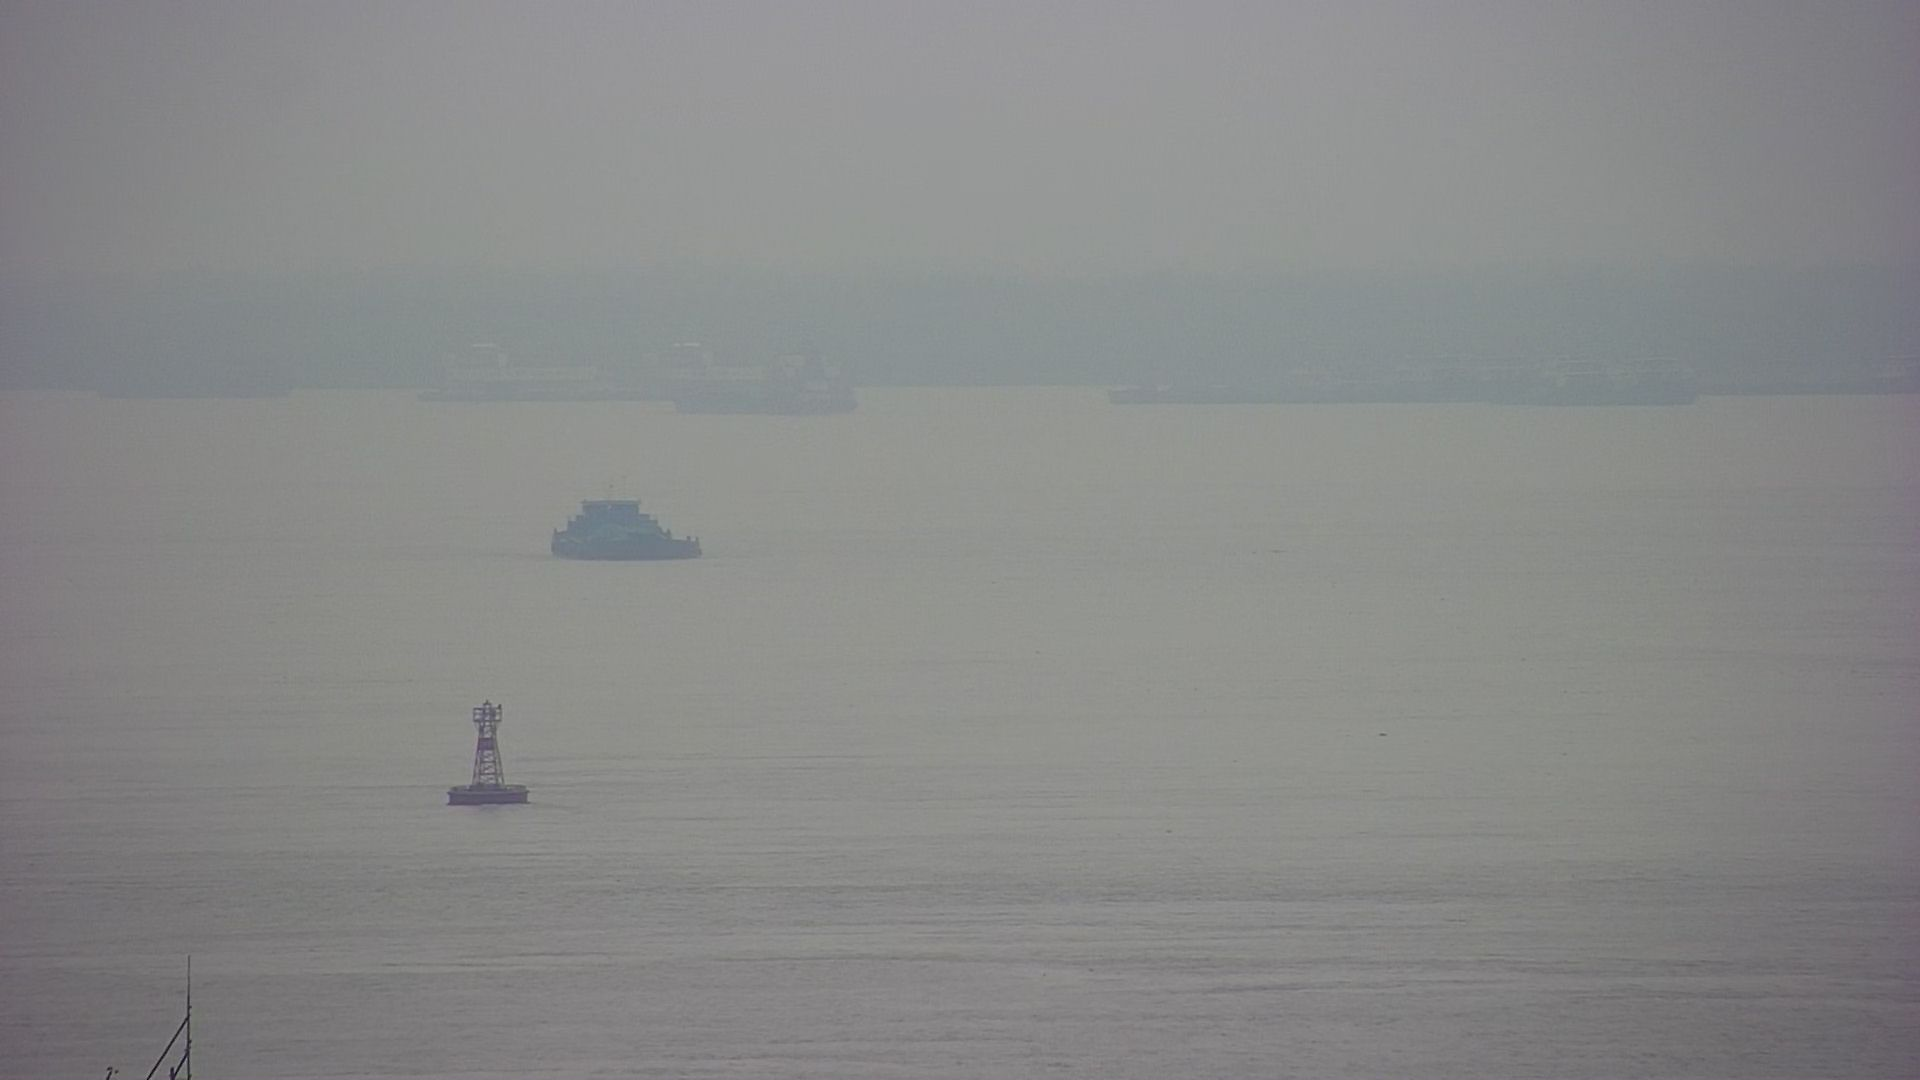buoy: (448, 691, 533, 806)
mast: (109, 949, 204, 1080)
ship: (550, 483, 709, 564)
